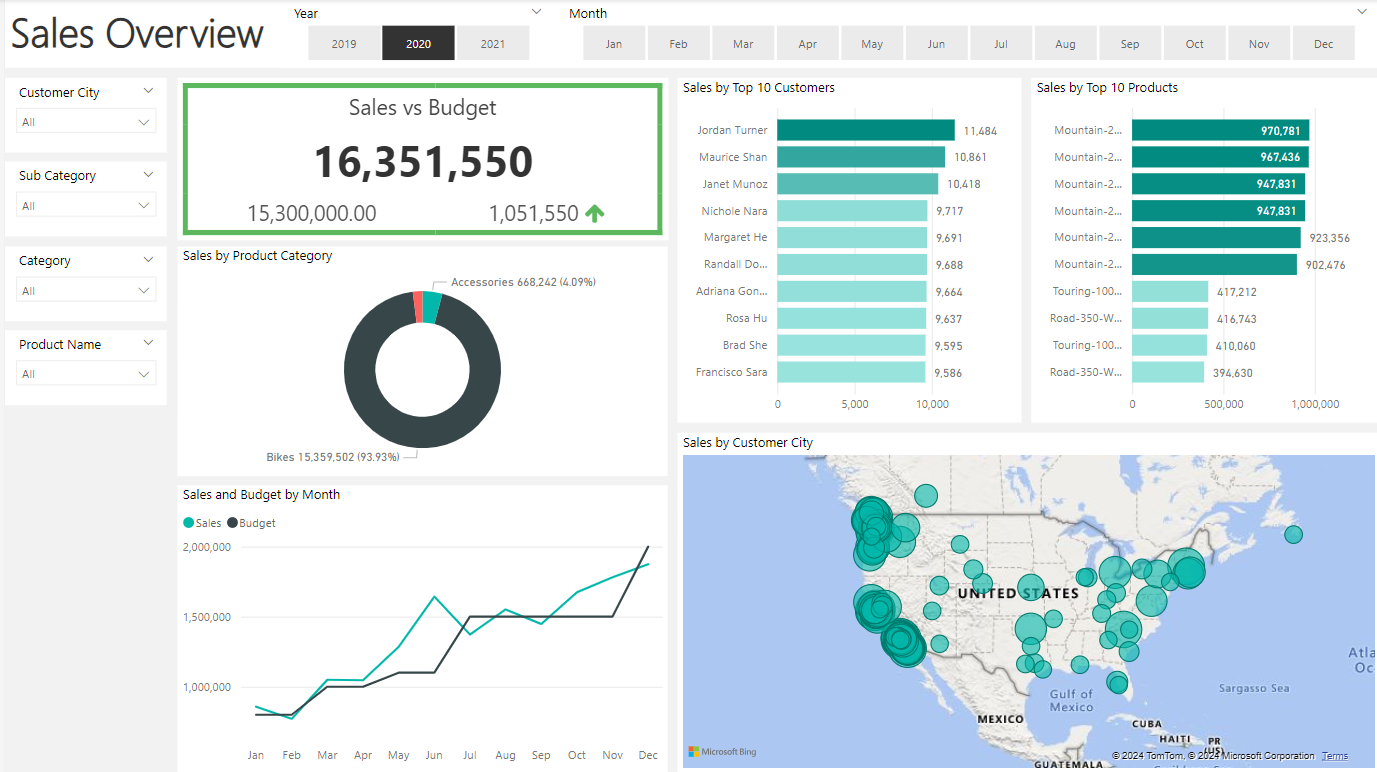

The page's visual inventory and layout, read from the dashboard file:
{"tool":"powerbi","page":{"name":"Sales Overview","canvas":[1280,720],"ordinal":0},"visuals":[{"type":"textbox","box":[0,0,1280,64],"z":0},{"type":"slicer","fields":{"Values":["DIM_Calendar.Year"]},"box":[256,0,256,64],"z":1000},{"type":"slicer","fields":{"Values":["DIM_Calendar.MonthShort"]},"box":[512,0,768,64],"z":2000},{"type":"slicer","fields":{"Values":["DIM_Customers.Customer City"]},"box":[0,73,150.5,69.3],"z":3000},{"type":"slicer","fields":{"Values":["DIM_Products.Product Category"]},"box":[0,229.9,150.5,69.3],"z":4000},{"type":"slicer","fields":{"Values":["DIM_Products.Product Name"]},"box":[0,308.4,150.5,69.3],"z":5000},{"type":"slicer","fields":{"Values":["DIM_Products.Sub Category"]},"box":[0,151.4,150.5,69.3],"z":6000},{"type":"barChart","title":"Sales by Top 10 Products","fields":{"Category":["DIM_Products.Product Name"],"Y":["Analysis Metrics.Sales"]},"box":[955.2,73,324.8,321.1],"z":7000},{"type":"lineChart","fields":{"Category":["DIM_Calendar.MonthShort"],"Y":["Analysis Metrics.Sales","Analysis Metrics.Budget"]},"box":[160.7,452.8,456.3,267.2],"z":8000},{"type":"barChart","title":"Sales by Top 10 Customers","fields":{"Category":["DIM_Customers.Full Name"],"Y":["Analysis Metrics.Sales"]},"box":[625.9,73,320.2,321.1],"z":9000},{"type":"donutChart","fields":{"Y":["Analysis Metrics.Sales"],"Series":["DIM_Products.Product Category"]},"box":[160.6,229.9,456.2,213.5],"z":10000},{"type":"map","fields":{"Category":["DIM_Customers.Customer City"],"Size":["Analysis Metrics.Sales"]},"box":[625.9,403.3,654.1,316.6],"z":12000},{"type":"BBED0A4D4D8D44CE93CF2DAFADEE466C","fields":{"actual":["Analysis Metrics.Sales"],"target2":["Analysis Metrics.Sales / Budget"],"target1":["Analysis Metrics.Budget"]},"box":[160.5,73.4,456.6,151.3],"z":13001}]}

Visuals, with their boxes in screenshot pixels (x1, y1, x2, y2), scaled from the page's 1280x720 canvas onto the 1377x772 screenshot:
textbox: 0,0,1376,69
slicer - DIM_Calendar.Year: 275,0,551,69
slicer - DIM_Calendar.MonthShort: 551,0,1376,69
slicer - DIM_Customers.Customer City: 0,78,162,153
slicer - DIM_Products.Product Category: 0,247,162,321
slicer - DIM_Products.Product Name: 0,331,162,405
slicer - DIM_Products.Sub Category: 0,162,162,237
"Sales by Top 10 Products" barChart: 1028,78,1376,423
lineChart - DIM_Calendar.MonthShort x Analysis Metrics.Sales: 173,486,664,771
"Sales by Top 10 Customers" barChart: 673,78,1018,423
donutChart - Analysis Metrics.Sales x DIM_Products.Product Category: 173,247,664,475
map - DIM_Customers.Customer City x Analysis Metrics.Sales: 673,432,1376,771
BBED0A4D4D8D44CE93CF2DAFADEE466C - Analysis Metrics.Sales x Analysis Metrics.Sales / Budget: 173,79,664,241
